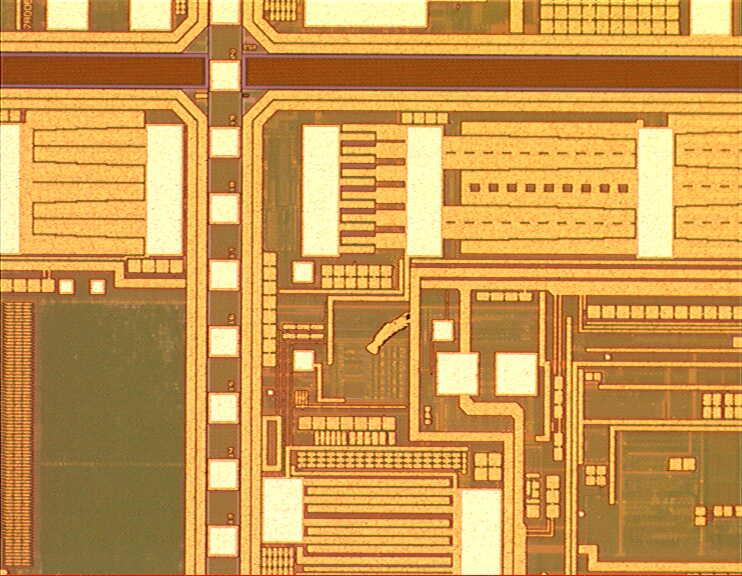BLOCK ETCH: (362, 309, 414, 360)
